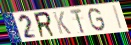2: (17, 13, 39, 40)
G: (88, 7, 107, 32)
I: (112, 5, 125, 31)
K: (52, 11, 73, 35)
R: (33, 11, 57, 40)
T: (69, 7, 86, 35)
